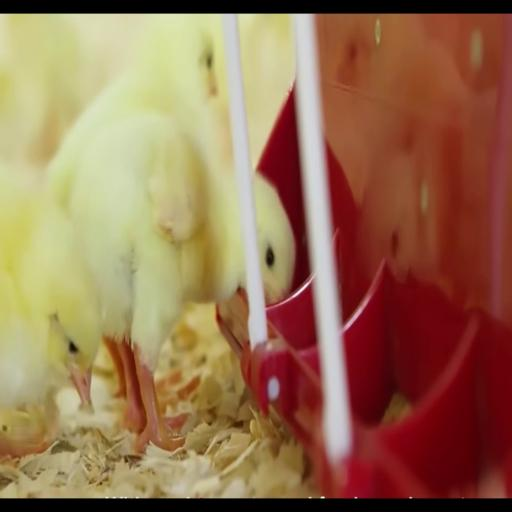chick: (69, 113, 246, 450), (48, 14, 221, 205), (0, 163, 100, 408)
